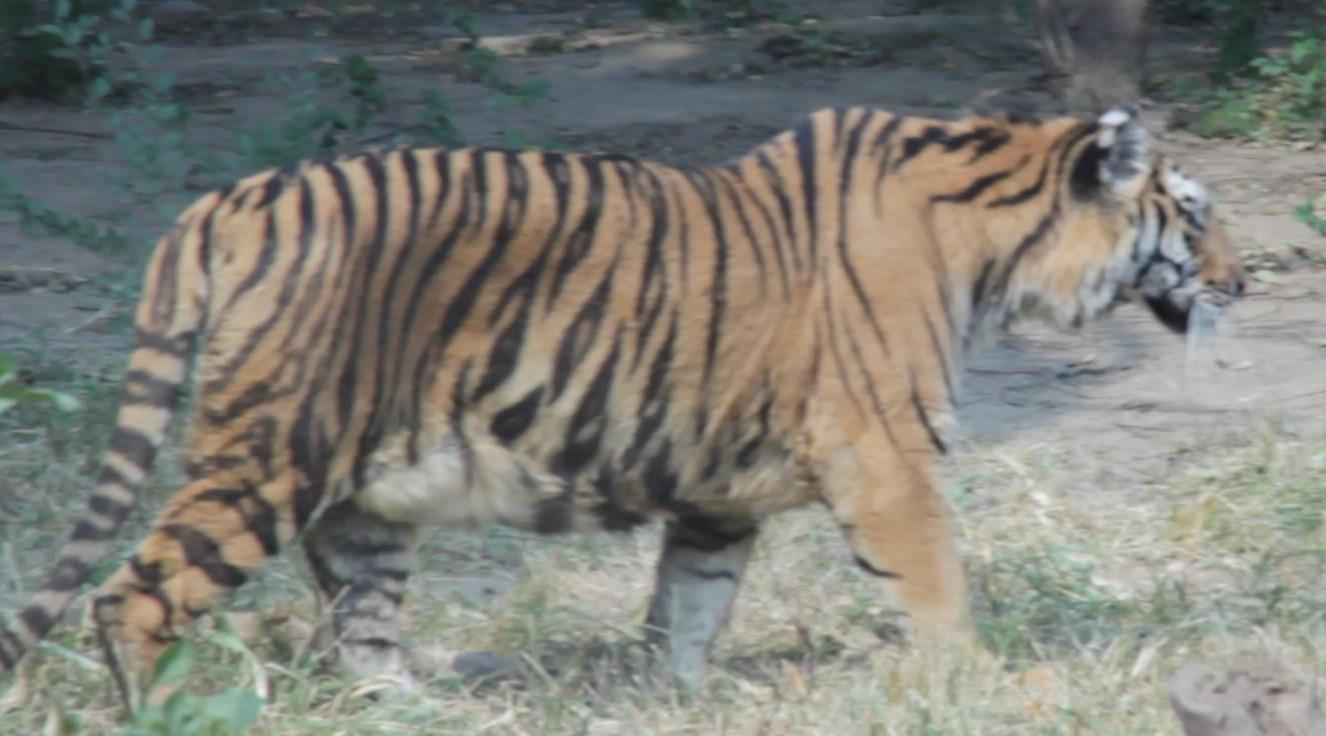tiger: (0, 104, 1244, 688)
